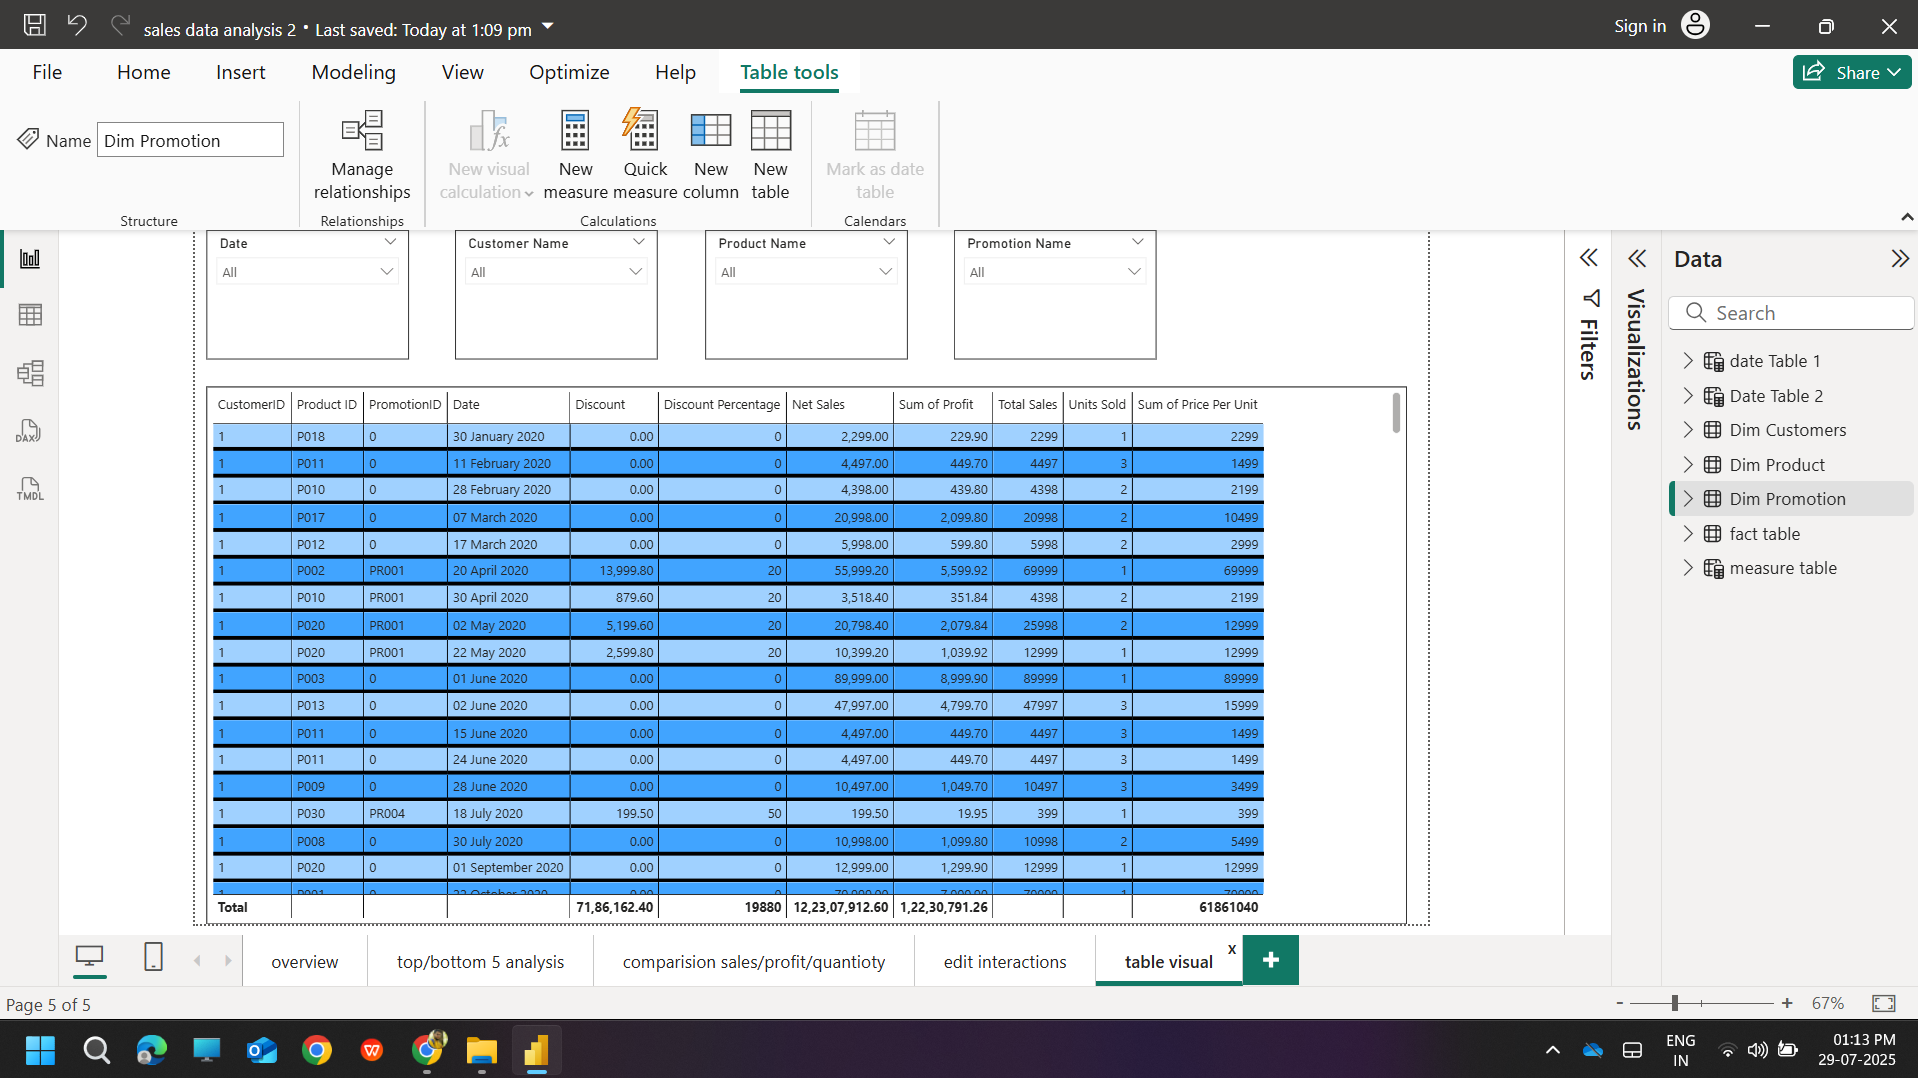

What the dashboard file says about the page in this screenshot:
{"tool":"powerbi","page":{"name":"table visual","canvas":[1280,720],"ordinal":4},"visuals":[{"type":"tableEx","fields":{"Values":["fact table.CustomerID","fact table.Product ID","fact table.PromotionID","fact table.Date (dd/mm/yyyy)","Sum(fact table.Discount)","Sum(fact table.Discount Percentage)","Sum(fact table.Net Sales)","Sum(fact table.Profit)","fact table.Total Sales","fact table.Units Sold","Sum(fact table.Price Per Unit)"]},"box":[11.9,162.6,1245.8,558],"z":0},{"type":"slicer","fields":{"Values":["date Table 1.Date"]},"box":[11.9,0,210.4,134.3],"z":1000},{"type":"slicer","fields":{"Values":["Dim Customers.Customer Name"]},"box":[270.6,0,210.4,134.3],"z":2000},{"type":"tableEx","fields":{"Values":["fact table.CustomerID","fact table.Product ID","fact table.PromotionID","fact table.Date (dd/mm/yyyy)","Sum(fact table.Discount)","Sum(fact table.Discount Percentage)","Sum(fact table.Net Sales)","Sum(fact table.Profit)","fact table.Total Sales","fact table.Units Sold","Sum(fact table.Price Per Unit)"]},"box":[11.9,162,1245.8,558],"z":3000},{"type":"slicer","fields":{"Values":["Dim Product.Product Name"]},"box":[529.2,0,210.4,134.3],"z":3001},{"type":"slicer","fields":{"Values":["Dim Promotion.Promotion Name"]},"box":[787.8,0,210.4,134.3],"z":3002}]}

Visuals, with their boxes on the page's 1280x720 design canvas (x1, y1, x2, y2). These are canvas units, not pixel positions in the 1918x1078 screenshot, which may show the page scaled, cropped or inside an application window:
tableEx - fact table.CustomerID x fact table.Product ID: <region>12, 163, 1258, 721</region>
slicer - date Table 1.Date: <region>12, 0, 222, 134</region>
slicer - Dim Customers.Customer Name: <region>271, 0, 481, 134</region>
tableEx - fact table.CustomerID x fact table.Product ID: <region>12, 162, 1258, 720</region>
slicer - Dim Product.Product Name: <region>529, 0, 740, 134</region>
slicer - Dim Promotion.Promotion Name: <region>788, 0, 998, 134</region>
